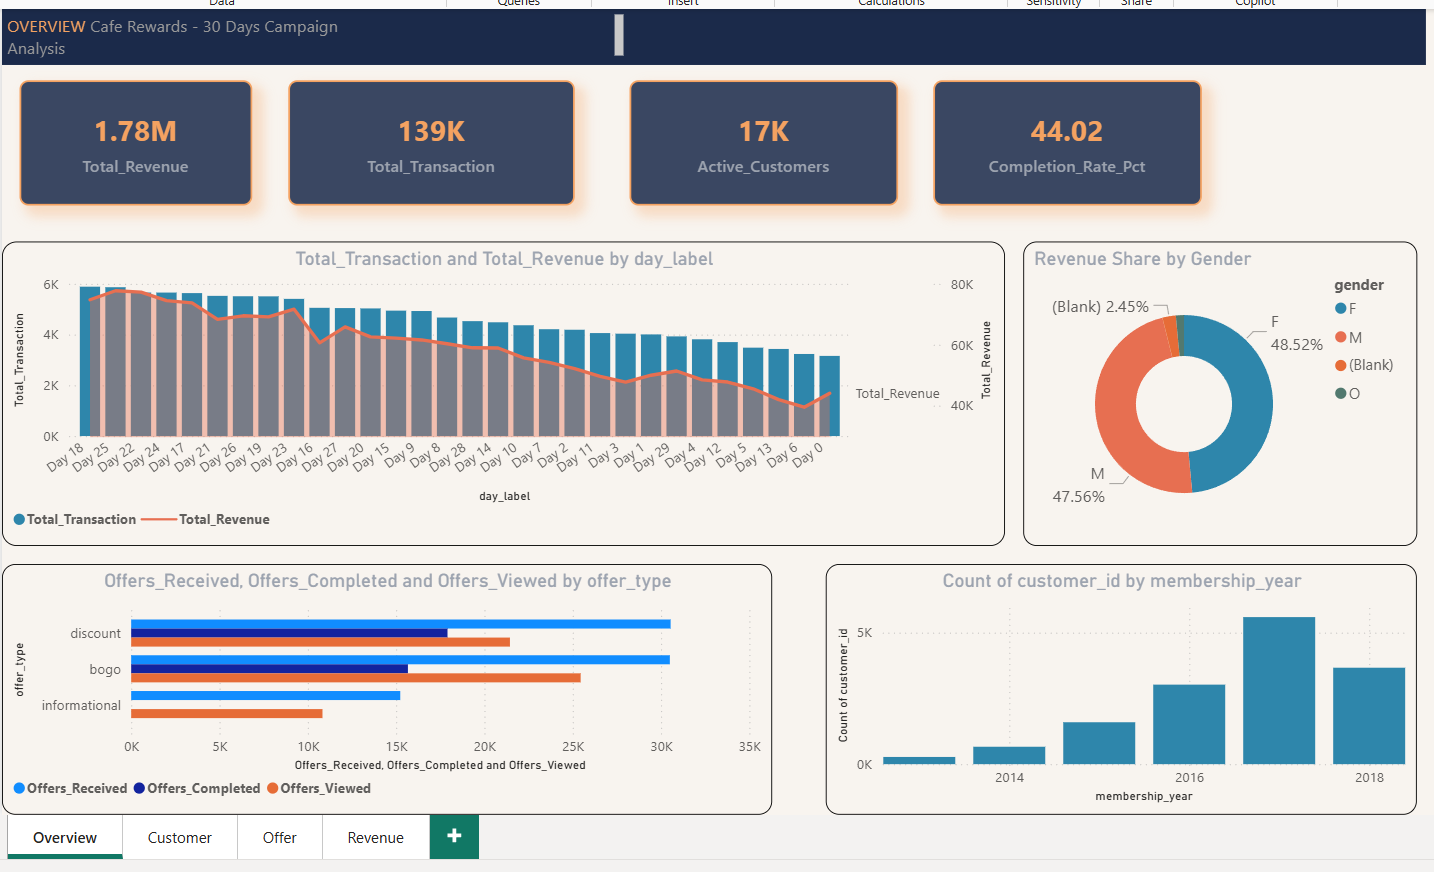

What the dashboard file says about the page in this screenshot:
{"tool":"powerbi","page":{"name":"Overview","canvas":[1280,720],"ordinal":0},"visuals":[{"type":"shape","box":[0,0,1272,50],"z":0},{"type":"textbox","box":[0,0,560,48],"z":1000},{"type":"card","fields":{"Values":["fact_transactions.Total_Revenue"]},"box":[16,64,208,112],"z":2000},{"type":"card","fields":{"Values":["fact_transactions.Total_Transaction"]},"box":[256,64,256,112],"z":3000},{"type":"card","fields":{"Values":["fact_transactions.Active_Customers"]},"box":[560,64,240,112],"z":4000},{"type":"card","fields":{"Values":["fact_offer_events.Completion_Rate_Pct"]},"box":[832,64,240,112],"z":5000},{"type":"donutChart","title":"Revenue Share by Gender","fields":{"Category":["dim_customers.gender"],"Y":["fact_transactions.Total_Revenue"]},"box":[912,208,352,272],"z":6000},{"type":"lineClusteredColumnComboChart","fields":{"Category":["dim_date.day_label"],"Y":["fact_transactions.Total_Transaction"],"Y2":["fact_transactions.Total_Revenue"]},"box":[0,208,896,272],"z":7000},{"type":"clusteredBarChart","fields":{"Category":["dim_offers.offer_type"],"Y":["fact_offer_events.Offers_Received","fact_offer_events.Offers_Completed","fact_offer_events.Offers_Viewed"]},"box":[0,496,688,224],"z":8000},{"type":"columnChart","fields":{"Category":["dim_customers.membership_year"],"Y":["Count(dim_customers.customer_id)"]},"box":[736,496,528,224],"z":9000}]}

Visuals, with their boxes on the page's 1280x720 design canvas (x1, y1, x2, y2). These are canvas units, not pixel positions in the 1434x872 screenshot, which may show the page scaled, cropped or inside an application window:
shape: 0 0 1272 50
textbox: 0 0 560 48
card - fact_transactions.Total_Revenue: 16 64 224 176
card - fact_transactions.Total_Transaction: 256 64 512 176
card - fact_transactions.Active_Customers: 560 64 800 176
card - fact_offer_events.Completion_Rate_Pct: 832 64 1072 176
"Revenue Share by Gender" donutChart: 912 208 1264 480
lineClusteredColumnComboChart - dim_date.day_label x fact_transactions.Total_Transaction: 0 208 896 480
clusteredBarChart - dim_offers.offer_type x fact_offer_events.Offers_Received: 0 496 688 720
columnChart - dim_customers.membership_year x Count(dim_customers.customer_id): 736 496 1264 720
